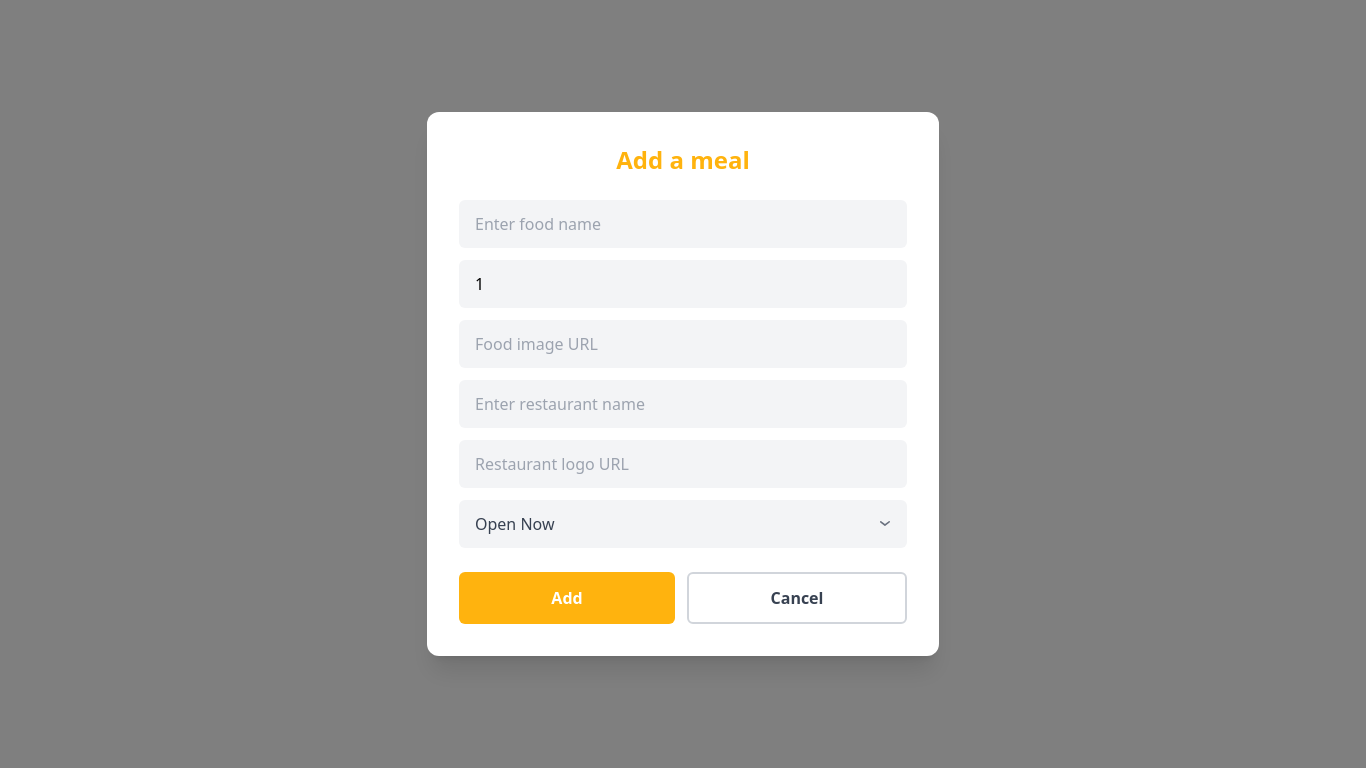
Test case: FoodFormModal › shows validation errors for invalid data
Note: Try to submit empty form to trigger validation errors
Click the button with test id "food-form-submit-button" at (567, 598), box [459,572,675,624]
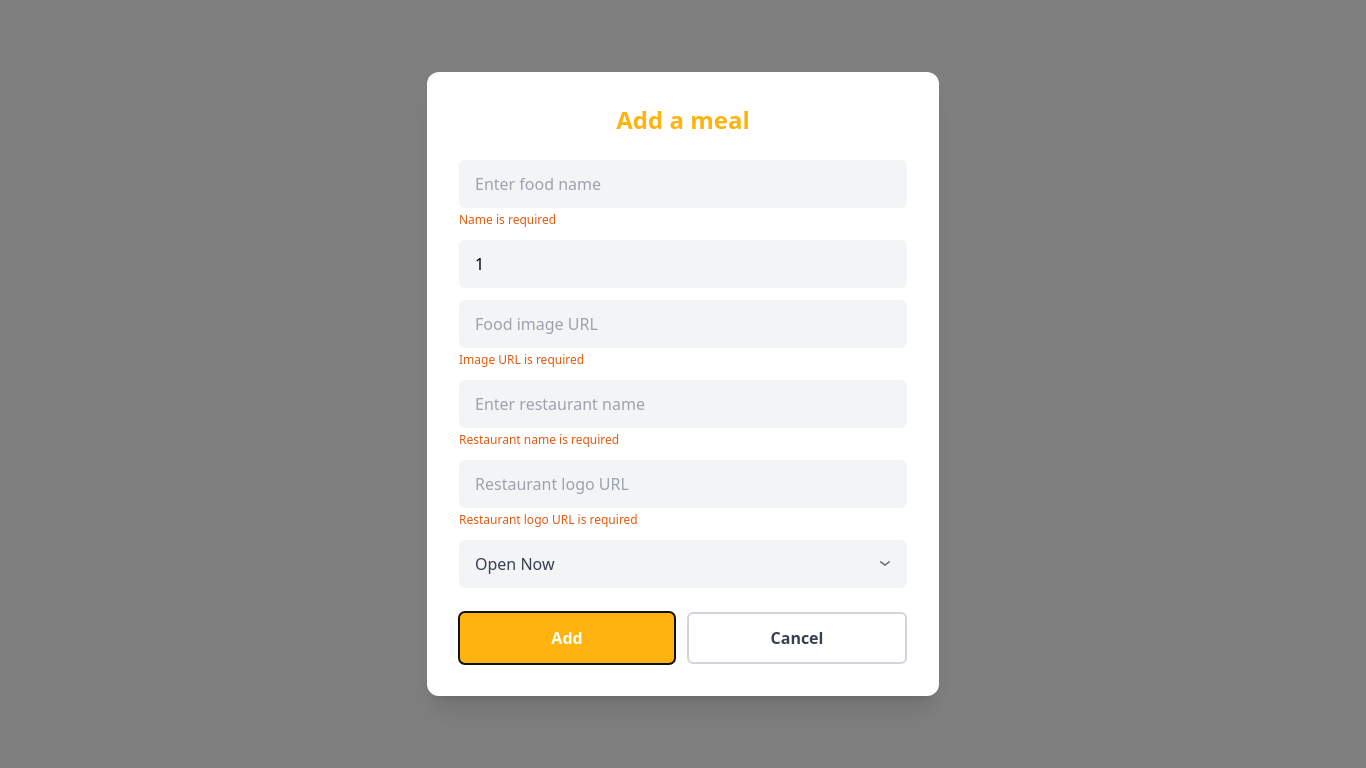
Expected: the text "Name is required" is shown, [459,211,556,228]
Expected: the text "Image URL is required" is shown, [459,351,584,368]
Expected: the text "Restaurant name is required" is shown, [459,431,619,448]
